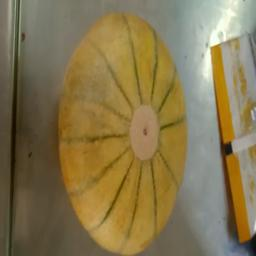Melon Semifresh: (60, 13, 186, 256)
